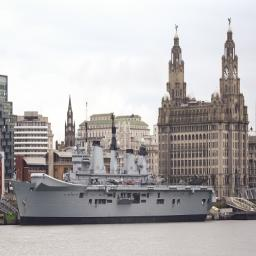Portanaves: (9, 109, 218, 228)
